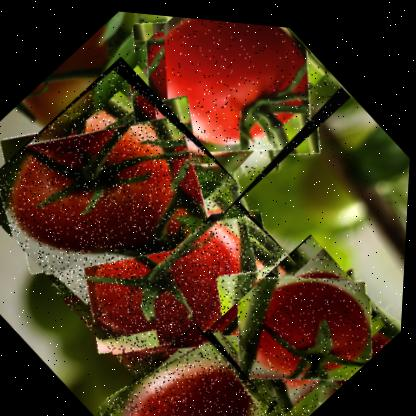tomato: (47, 135, 318, 415), (0, 42, 249, 333), (89, 7, 355, 227), (200, 217, 408, 415), (97, 309, 295, 415)
